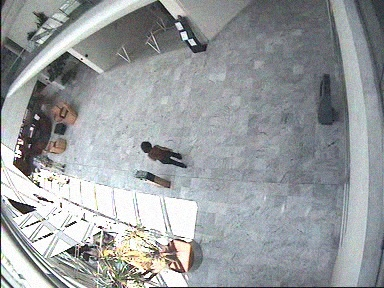person: (140, 140, 186, 167), (35, 154, 64, 172), (35, 169, 69, 183)
